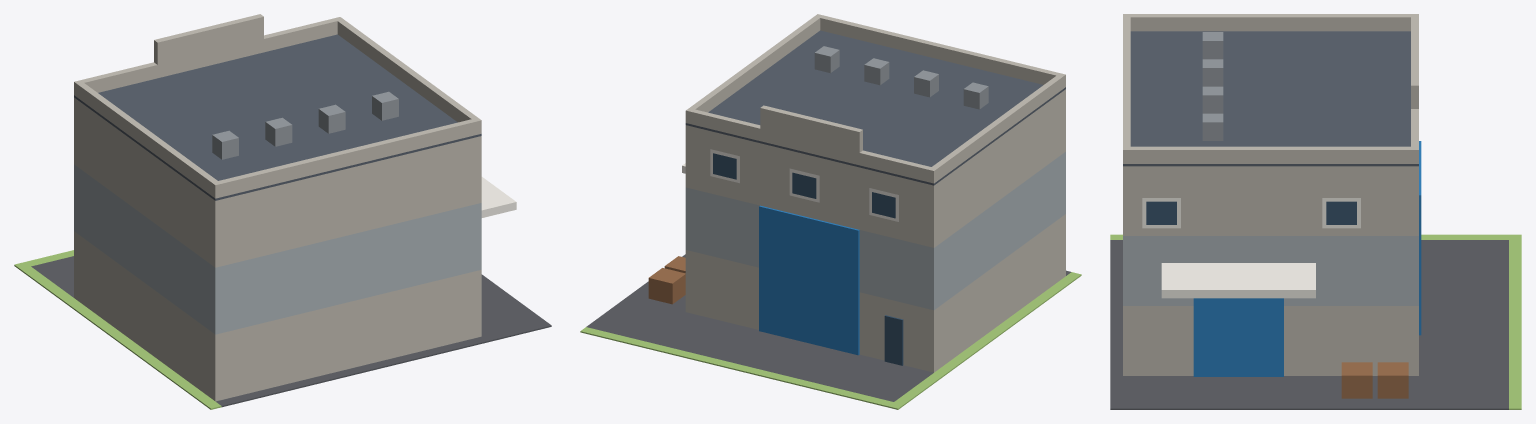
The picture shows the model from 3 angles, left to right: view 1: azimuth 30°, elevation 25°; view 2: azimuth 150°, elevation 25°; view 3: azimuth 270°, elevation 25°; orthographic projection. The views are drawn at different scales.
Parts seen in each view (by area): view 1: wall (×3), roof, parapet (×5), asphalt, roof_vent (×4), lawn, canopy; view 2: wall (×3), roof, parapet (×5), garage_door, asphalt, lawn (×2), roof_vent (×4), window_glass (×3), pallet, door; view 3: wall (×3), roof, asphalt, parapet (×5), garage_door (×2), canopy, lawn (×2), roof_vent (×4), pallet (×2), window_glass (×2), window_frame (×2).
Part boxes in pixels (x1,y1,x2,y2): wall (×3): (74,97,481,401); roof: (74,34,481,200); parapet (×5): (74,14,481,198); asphalt: (31,256,551,407); roof_vent (×4): (212,91,398,159); lawn: (14,262,221,409); canopy: (481,177,516,217); wall (×3): (685,89,1065,372); roof: (685,30,1065,185); parapet (×5): (685,14,1065,183); garage_door: (759,205,859,355); asphalt: (586,254,1071,401); lawn (×2): (580,272,1081,409); roof_vent (×4): (814,46,988,109); window_glass (×3): (713,153,895,218); pallet: (648,268,685,304); door: (884,315,903,365); wall (×3): (1123,166,1418,375); roof: (1123,31,1418,166); asphalt: (1110,240,1508,409); parapet (×5): (1123,14,1418,163); garage_door (×2): (1193,141,1421,376); canopy: (1161,263,1315,298); lawn (×2): (1110,234,1521,409); roof_vent (×4): (1202,32,1223,140); pallet (×2): (1341,362,1408,398); window_glass (×2): (1146,201,1356,224); window_frame (×2): (1142,198,1360,228).
Bounding box in the file's own units: 16 × 10.76 × 16.
